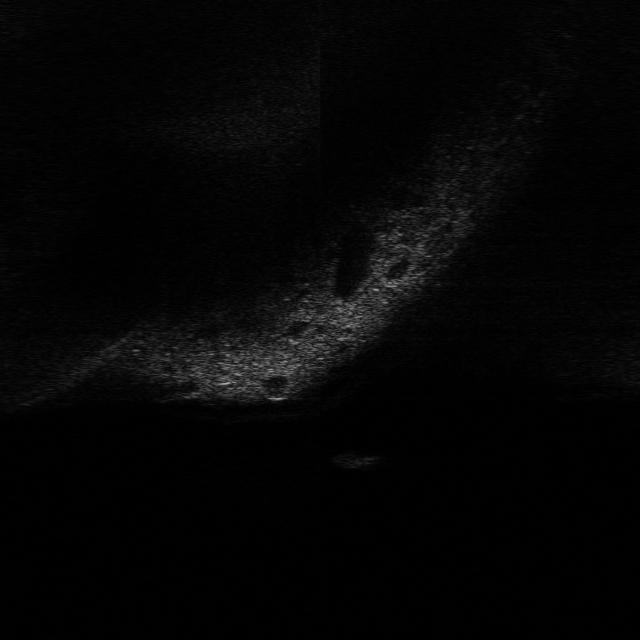cube: (326, 449, 386, 473)
